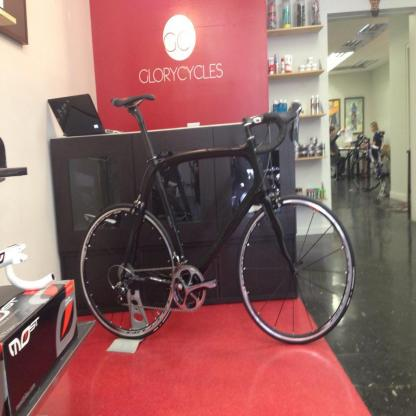board: (47, 94, 123, 139), (274, 54, 280, 74), (268, 57, 274, 74), (312, 94, 316, 116), (285, 55, 290, 72), (316, 94, 320, 113), (272, 99, 278, 111), (290, 55, 294, 72), (281, 57, 285, 74), (279, 97, 283, 112), (298, 64, 305, 72), (283, 100, 287, 112), (310, 64, 318, 70), (307, 58, 313, 66), (304, 65, 310, 71)
